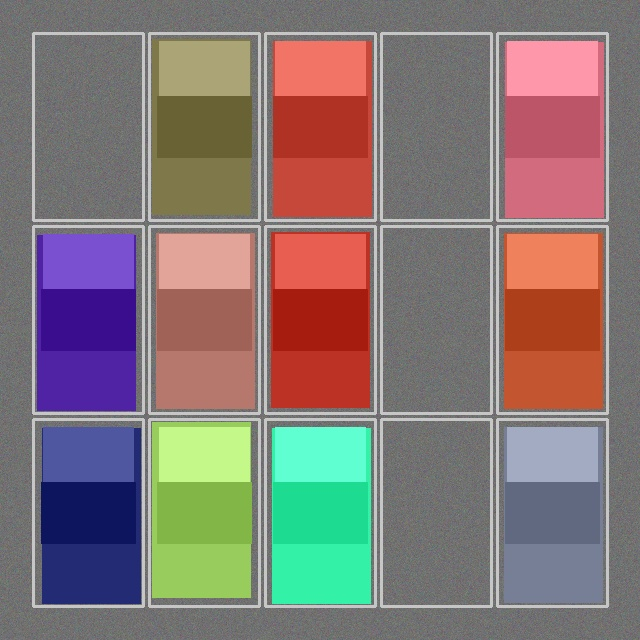space-empty: (35, 35, 141, 218), (383, 35, 489, 218), (383, 228, 489, 411), (383, 421, 489, 604)
space-occupied: (151, 35, 257, 218), (267, 35, 373, 218), (499, 35, 605, 218), (35, 228, 141, 411), (151, 228, 257, 411), (267, 228, 373, 411), (499, 228, 605, 411), (35, 421, 141, 604), (151, 421, 257, 604), (267, 421, 373, 604), (499, 421, 605, 604)
